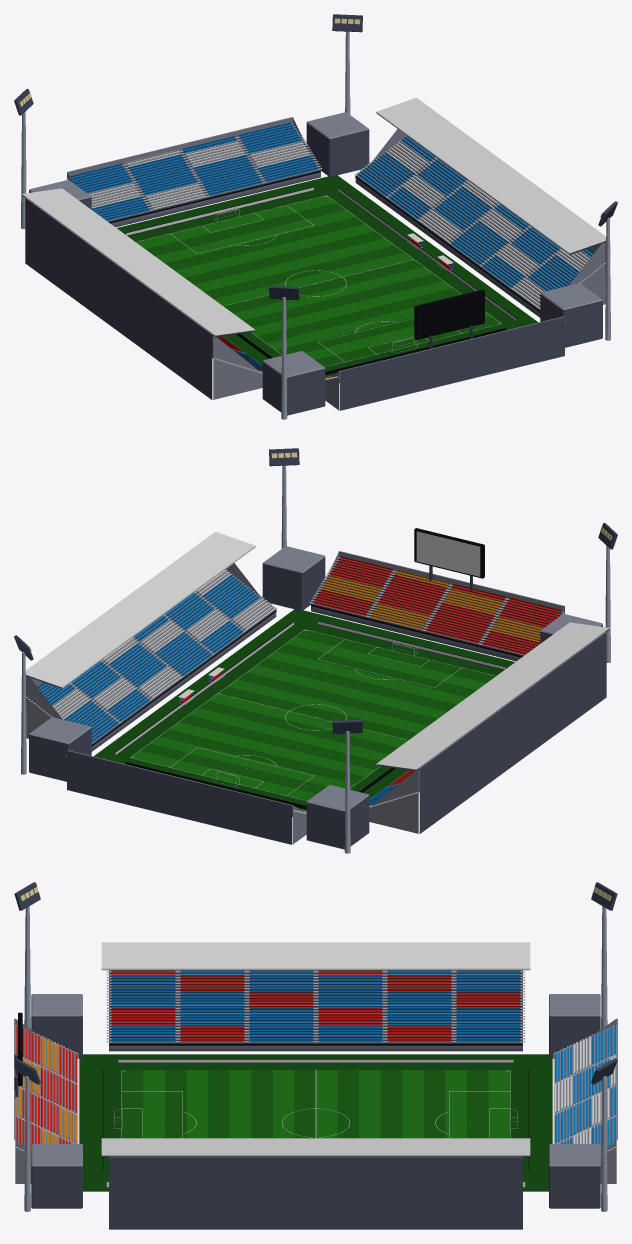
The model's file is Football.fbx.
3 renders of one model, top to bottom at view 1: azimuth 30°, elevation 25°; view 2: azimuth 150°, elevation 25°; view 3: azimuth 270°, elevation 25°, orthographic. The views are drawn at different scales.
Visible parts, largest first — view 1: Structure, Ground, Seats, Boards, Lines; view 2: Structure, Ground, Seats, Screen, Boards, Lines; view 3: Structure, Ground, Seats, Boards, Lines.
Part boxes in pixels (x1,y1,x2,y2): Structure: (14, 14, 617, 419); Ground: (117, 175, 538, 377); Seats: (70, 122, 593, 378); Boards: (126, 187, 516, 321); Lines: (136, 195, 501, 366); Structure: (14, 448, 617, 853); Ground: (93, 609, 514, 811); Seats: (38, 556, 561, 812); Screen: (416, 531, 480, 576); Boards: (115, 621, 505, 755); Lines: (130, 629, 495, 800); Structure: (14, 882, 617, 1229); Ground: (79, 1054, 552, 1191); Seats: (16, 970, 615, 1150); Boards: (118, 1059, 513, 1062); Lines: (121, 1070, 510, 1137).
Size of the model in its own units: 136 by 43.97 by 163.
